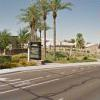Palm tree: (14, 2, 78, 44)
